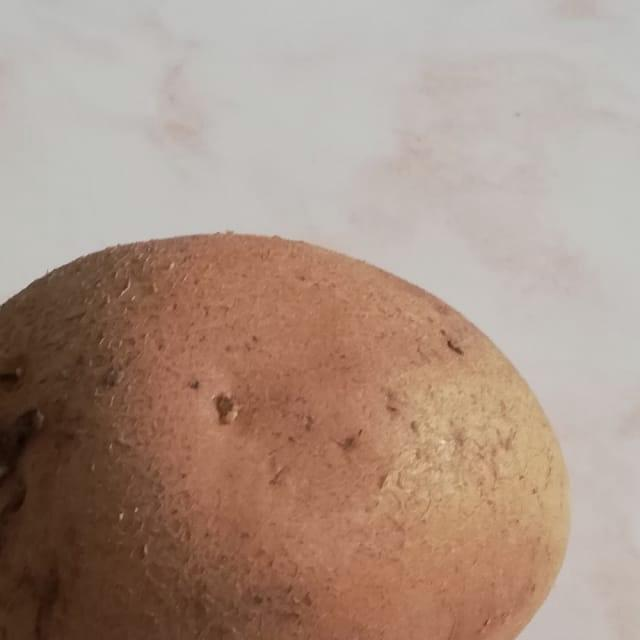potato: (0, 202, 588, 640)
